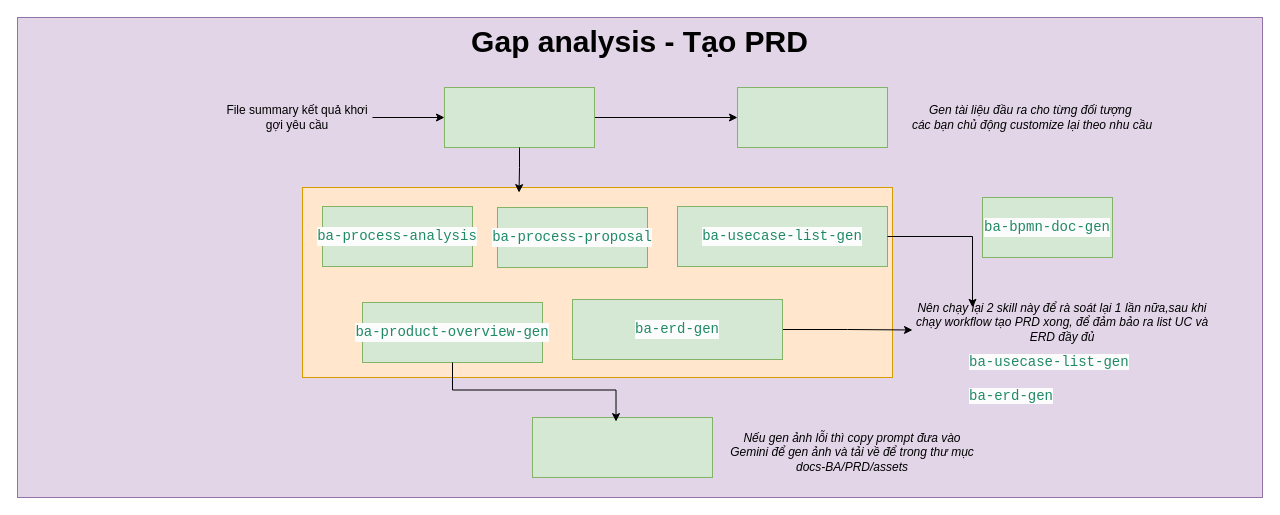
This 1280x515 diagram has some shape labels left out. Each missing label, with the box of its shape:
ba-doc-generator: (736, 86, 888, 148)
ba-infographic-gen: (532, 416, 712, 478)
workflow: ba-create-prd: (444, 86, 594, 148)
